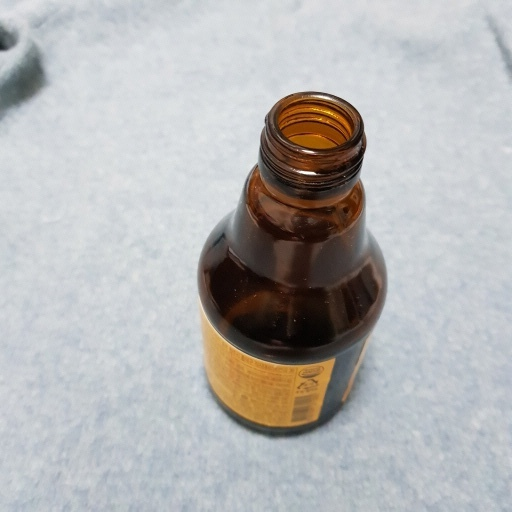Glass_3: (194, 88, 393, 438)
